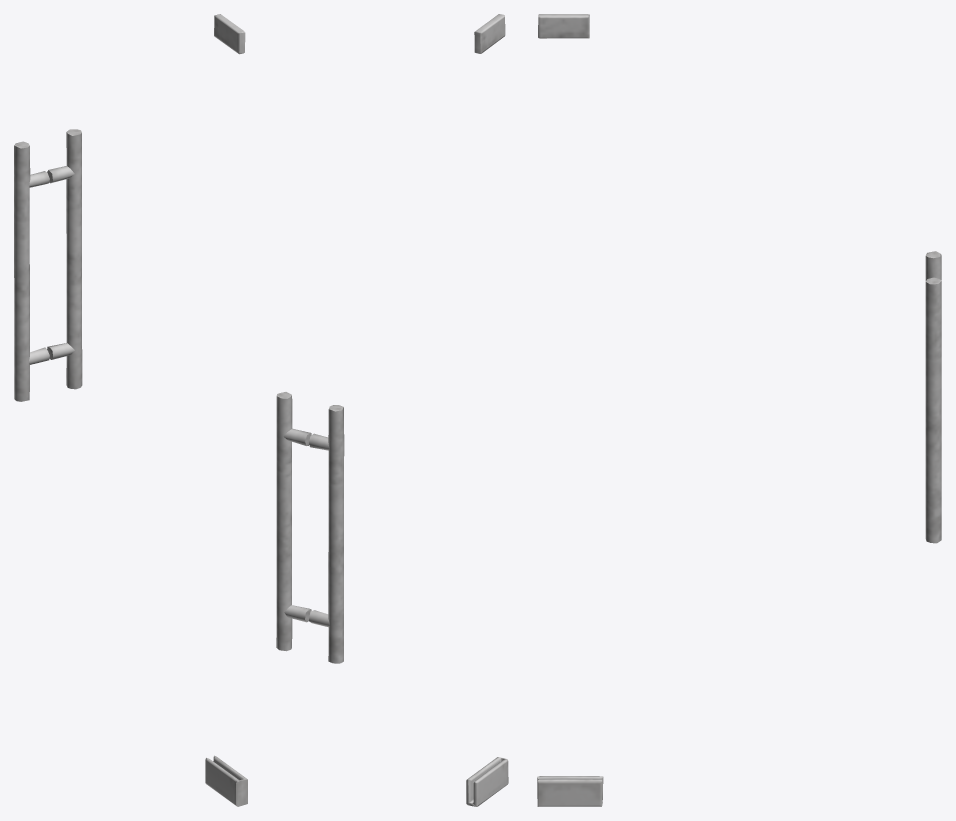
The model's file is SM_Office_wall01ak.fbx.
3 renders of one model, left to right at view 1: azimuth 30°, elevation 25°; view 2: azimuth 150°, elevation 25°; view 3: azimuth 270°, elevation 25°, orthographic. The views are drawn at different scales.
Visible parts, largest first — view 1: SM_Office_wall01ak_LOD0; view 2: SM_Office_wall01ak_LOD0; view 3: SM_Office_wall01ak_LOD0.
Boxes of the visible parts, bbox=[...] form: SM_Office_wall01ak_LOD0: bbox=[14, 14, 247, 806]; SM_Office_wall01ak_LOD0: bbox=[276, 14, 508, 806]; SM_Office_wall01ak_LOD0: bbox=[537, 14, 941, 806].
Size of the model in its own units: 21.37 by 111 by 239.
